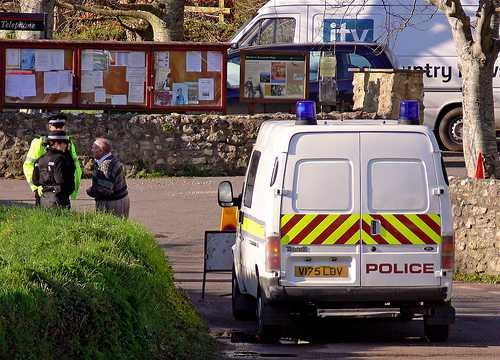Police Van: (211, 100, 470, 349)
